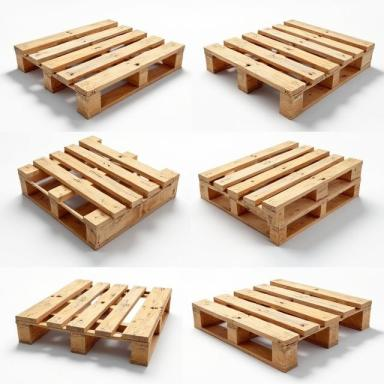pallet: (17, 135, 180, 251), (198, 140, 363, 247), (203, 19, 375, 121), (14, 19, 185, 120), (192, 278, 372, 373), (15, 279, 172, 366), (287, 213, 319, 239), (284, 196, 315, 218), (327, 194, 353, 212), (328, 177, 351, 195)
